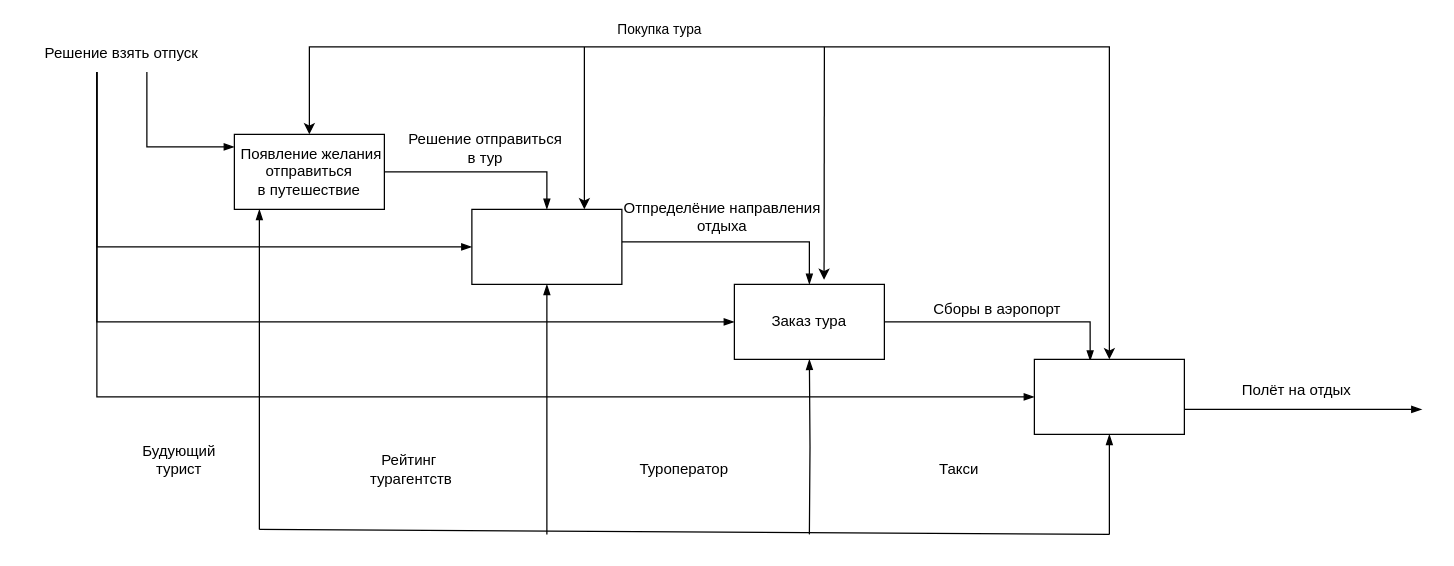
The diagram is 1454 pixels wide and 566 high, and some of its shapes have lost their labels. The centre of each missing label's shape, as x and y in pixels:
"Выбор турагентства" goes at (x=546, y=246).
"Поездка в аэропорт" goes at (x=1108, y=396).
